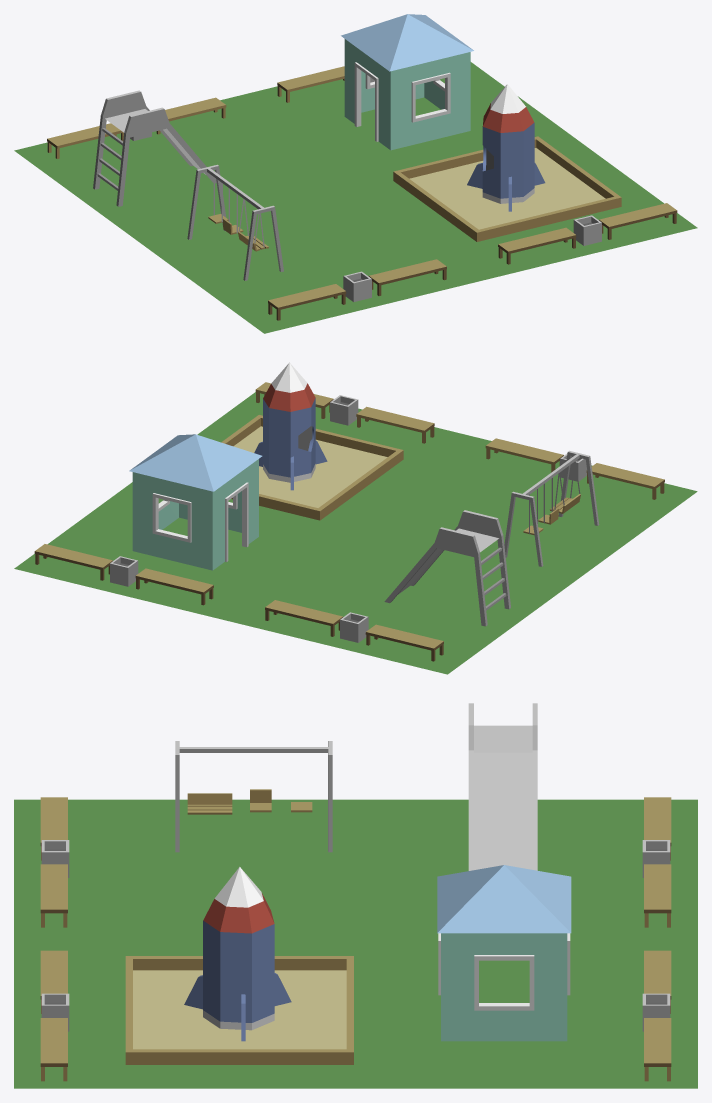
Rendered from landscape_entertainment_006.glb.
3 renders of one model, top to bottom at view 1: azimuth 30°, elevation 25°; view 2: azimuth 150°, elevation 25°; view 3: azimuth 270°, elevation 25°, orthographic. The views are drawn at different scales.
Visible parts, largest first — view 1: landscape_entertainment_006; view 2: landscape_entertainment_006; view 3: landscape_entertainment_006.
Boxes of the visible parts, <box> form: landscape_entertainment_006: <box>14,14,697,333</box>; landscape_entertainment_006: <box>14,362,697,674</box>; landscape_entertainment_006: <box>14,703,697,1088</box>.
Bounding box in the file's own units: 16 × 4.01 × 16.
Materials: 1 (1 with a texture image).
